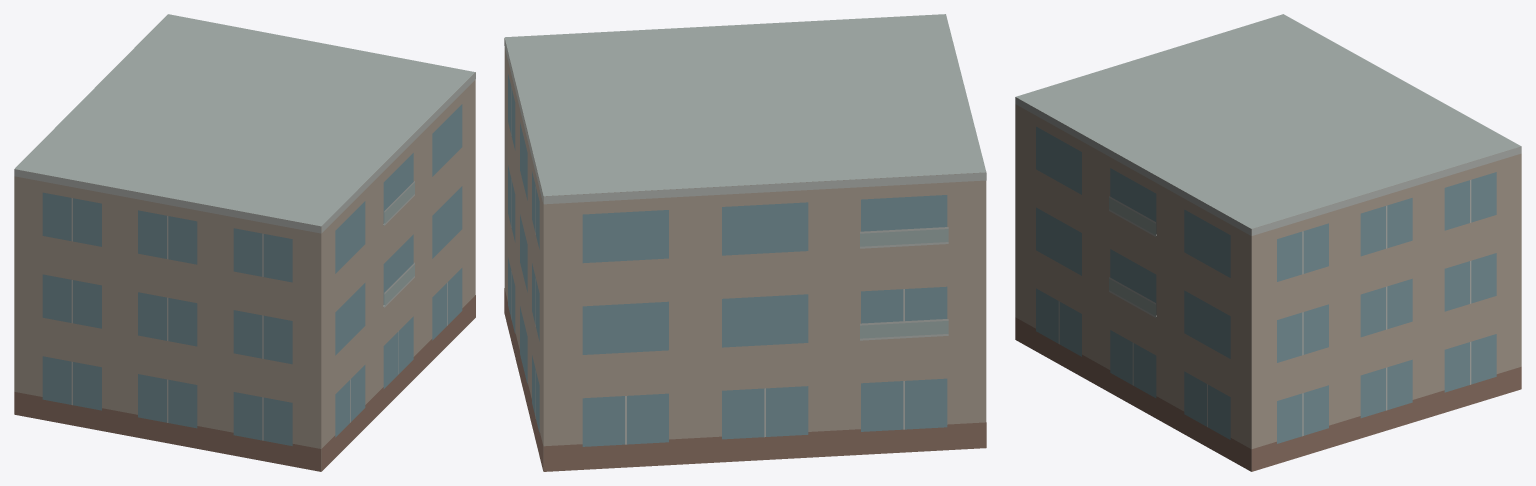
File: survey-upis-32872130.glb
3 views of the same model, side by side, from view 1: azimuth 30°, elevation 25°; view 2: azimuth 150°, elevation 25°; view 3: azimuth 270°, elevation 25° (orthographic). The views are drawn at different scales.
Visible parts, largest first — view 1: survey-upis-32872130.tmp; view 2: survey-upis-32872130.tmp; view 3: survey-upis-32872130.tmp.
Boxes of the visible parts, x1=… form: survey-upis-32872130.tmp: x1=14, y1=14, x2=475, y2=471; survey-upis-32872130.tmp: x1=504, y1=14, x2=986, y2=471; survey-upis-32872130.tmp: x1=1015, y1=14, x2=1521, y2=471.
Bounding box in the file's own units: 15.77 × 8.3 × 15.69.
